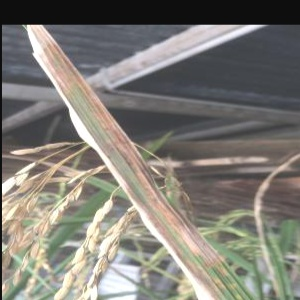Leaf_Blast: (173, 211, 242, 300)
